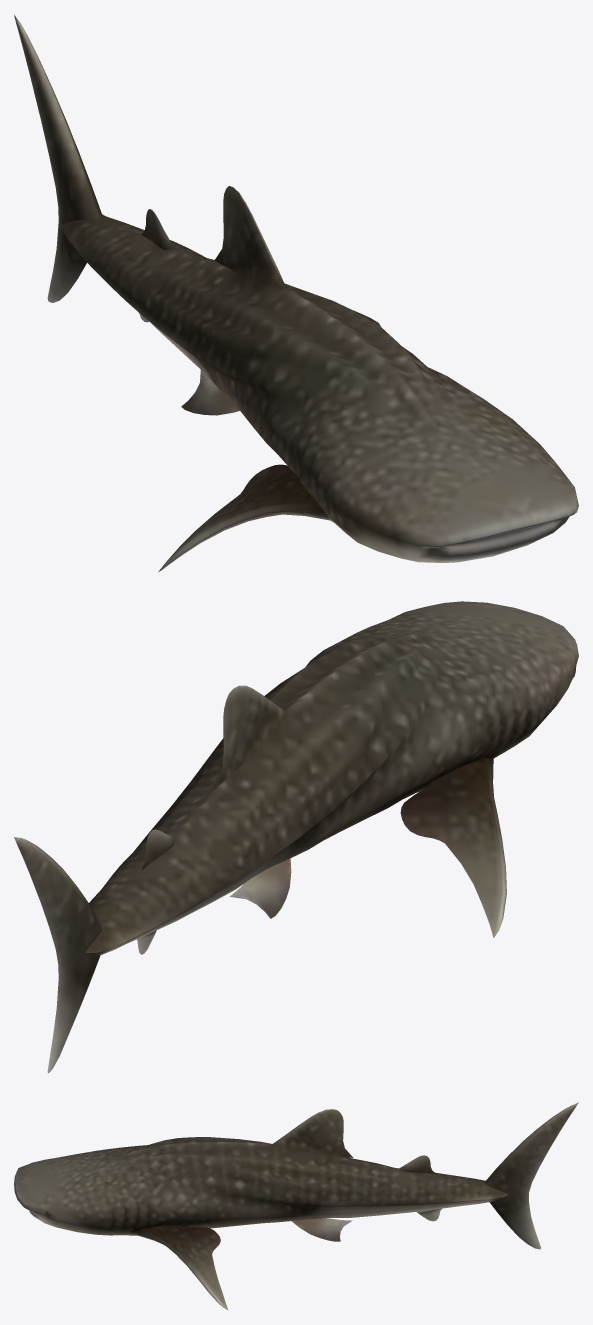
The model's file is whale-shark.glb.
3 views of the same model, one above another, from view 1: azimuth 30°, elevation 25°; view 2: azimuth 150°, elevation 25°; view 3: azimuth 270°, elevation 25° (orthographic). The views are drawn at different scales.
Size of the model in its own units: 15.36 by 12.53 by 39.51.
Materials: 1 (1 with a texture image).
